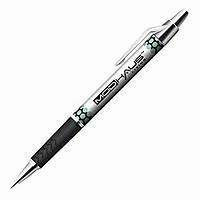pen: (9, 8, 187, 193)
